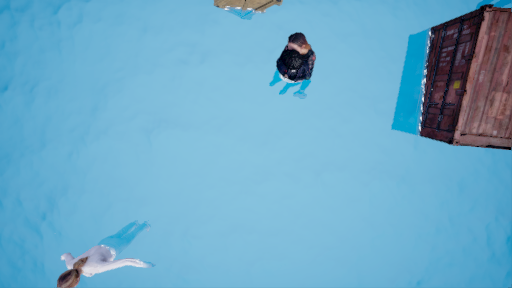person: (50, 221, 159, 284), (261, 34, 316, 102)
